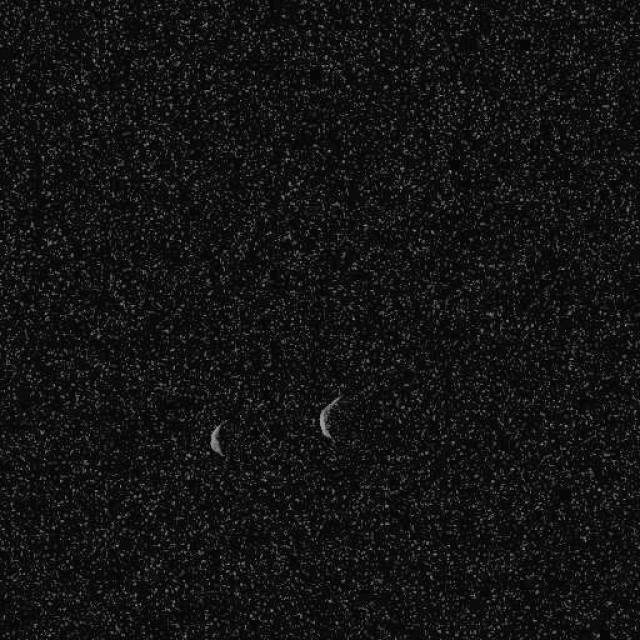D2: (317, 390, 343, 441), (209, 420, 225, 458)
